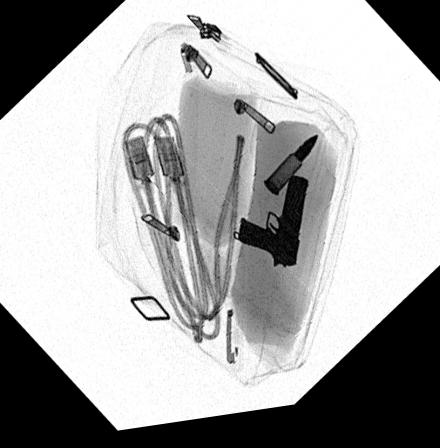Bullet: (264, 142, 317, 203)
Gun: (236, 182, 307, 277)
